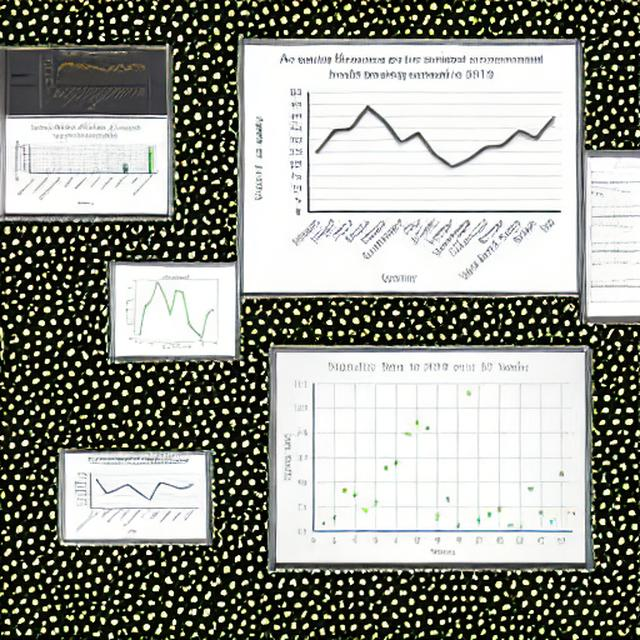Graph: (247, 49, 574, 286), (277, 355, 583, 560), (10, 119, 161, 212), (70, 457, 200, 534), (117, 270, 233, 350), (36, 49, 152, 115), (586, 216, 640, 248)
